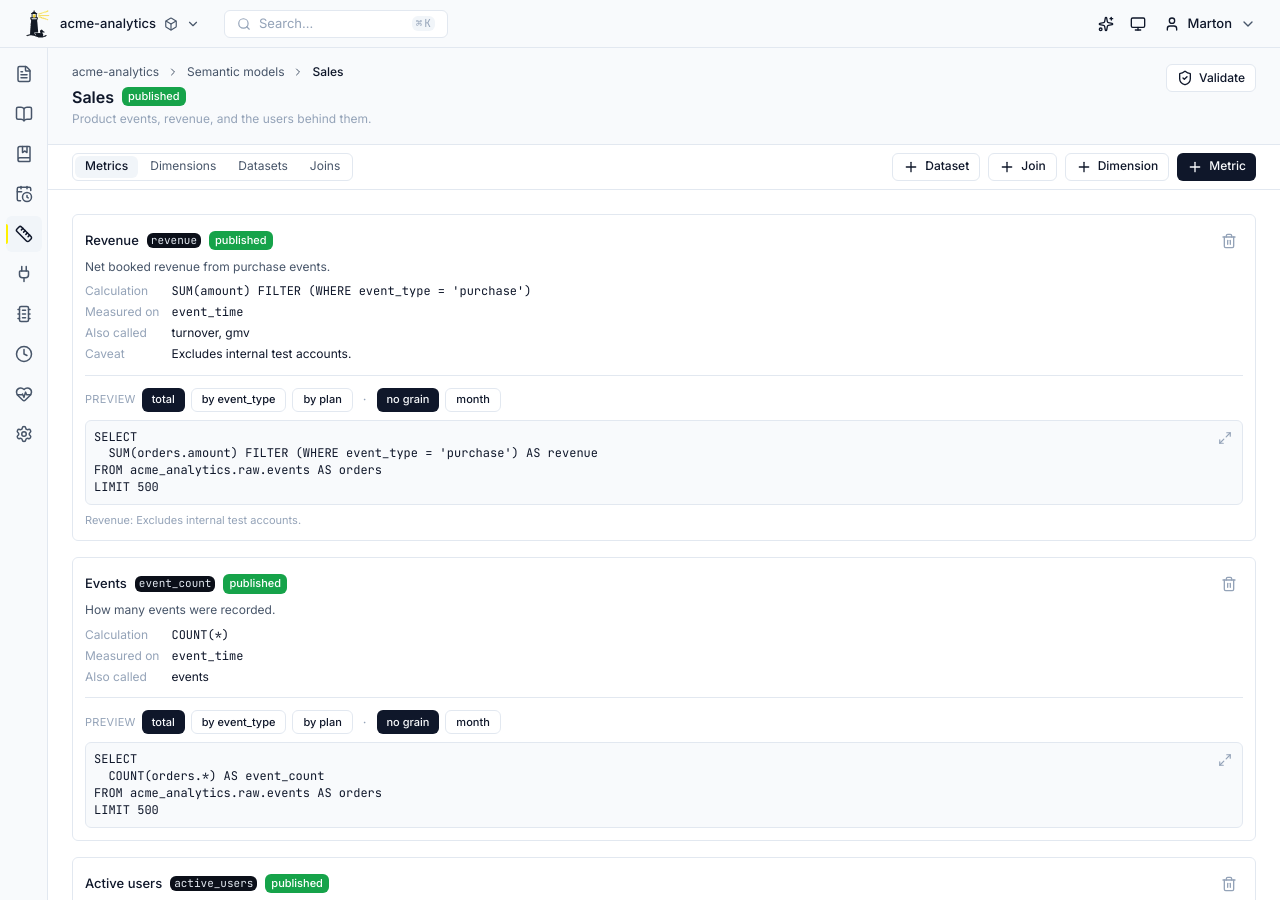
Test case: authoring definitions › explains what the metric's time axis decides
Step 1. Click the button "Metric" → (1217, 167), box [1177,153,1256,181]
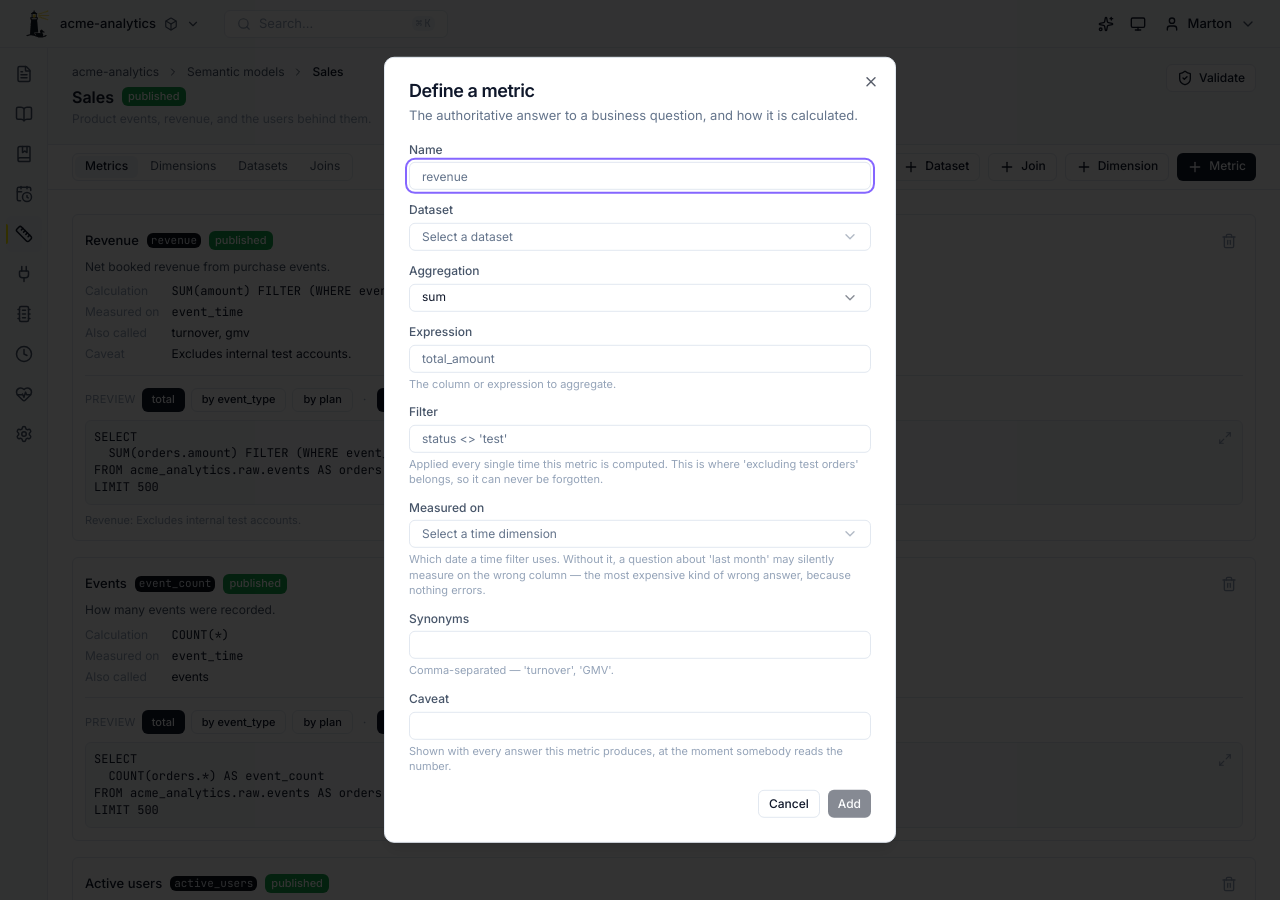
Expected: the text "may silently measure on the wrong column" is shown, [409,552,851,597]
